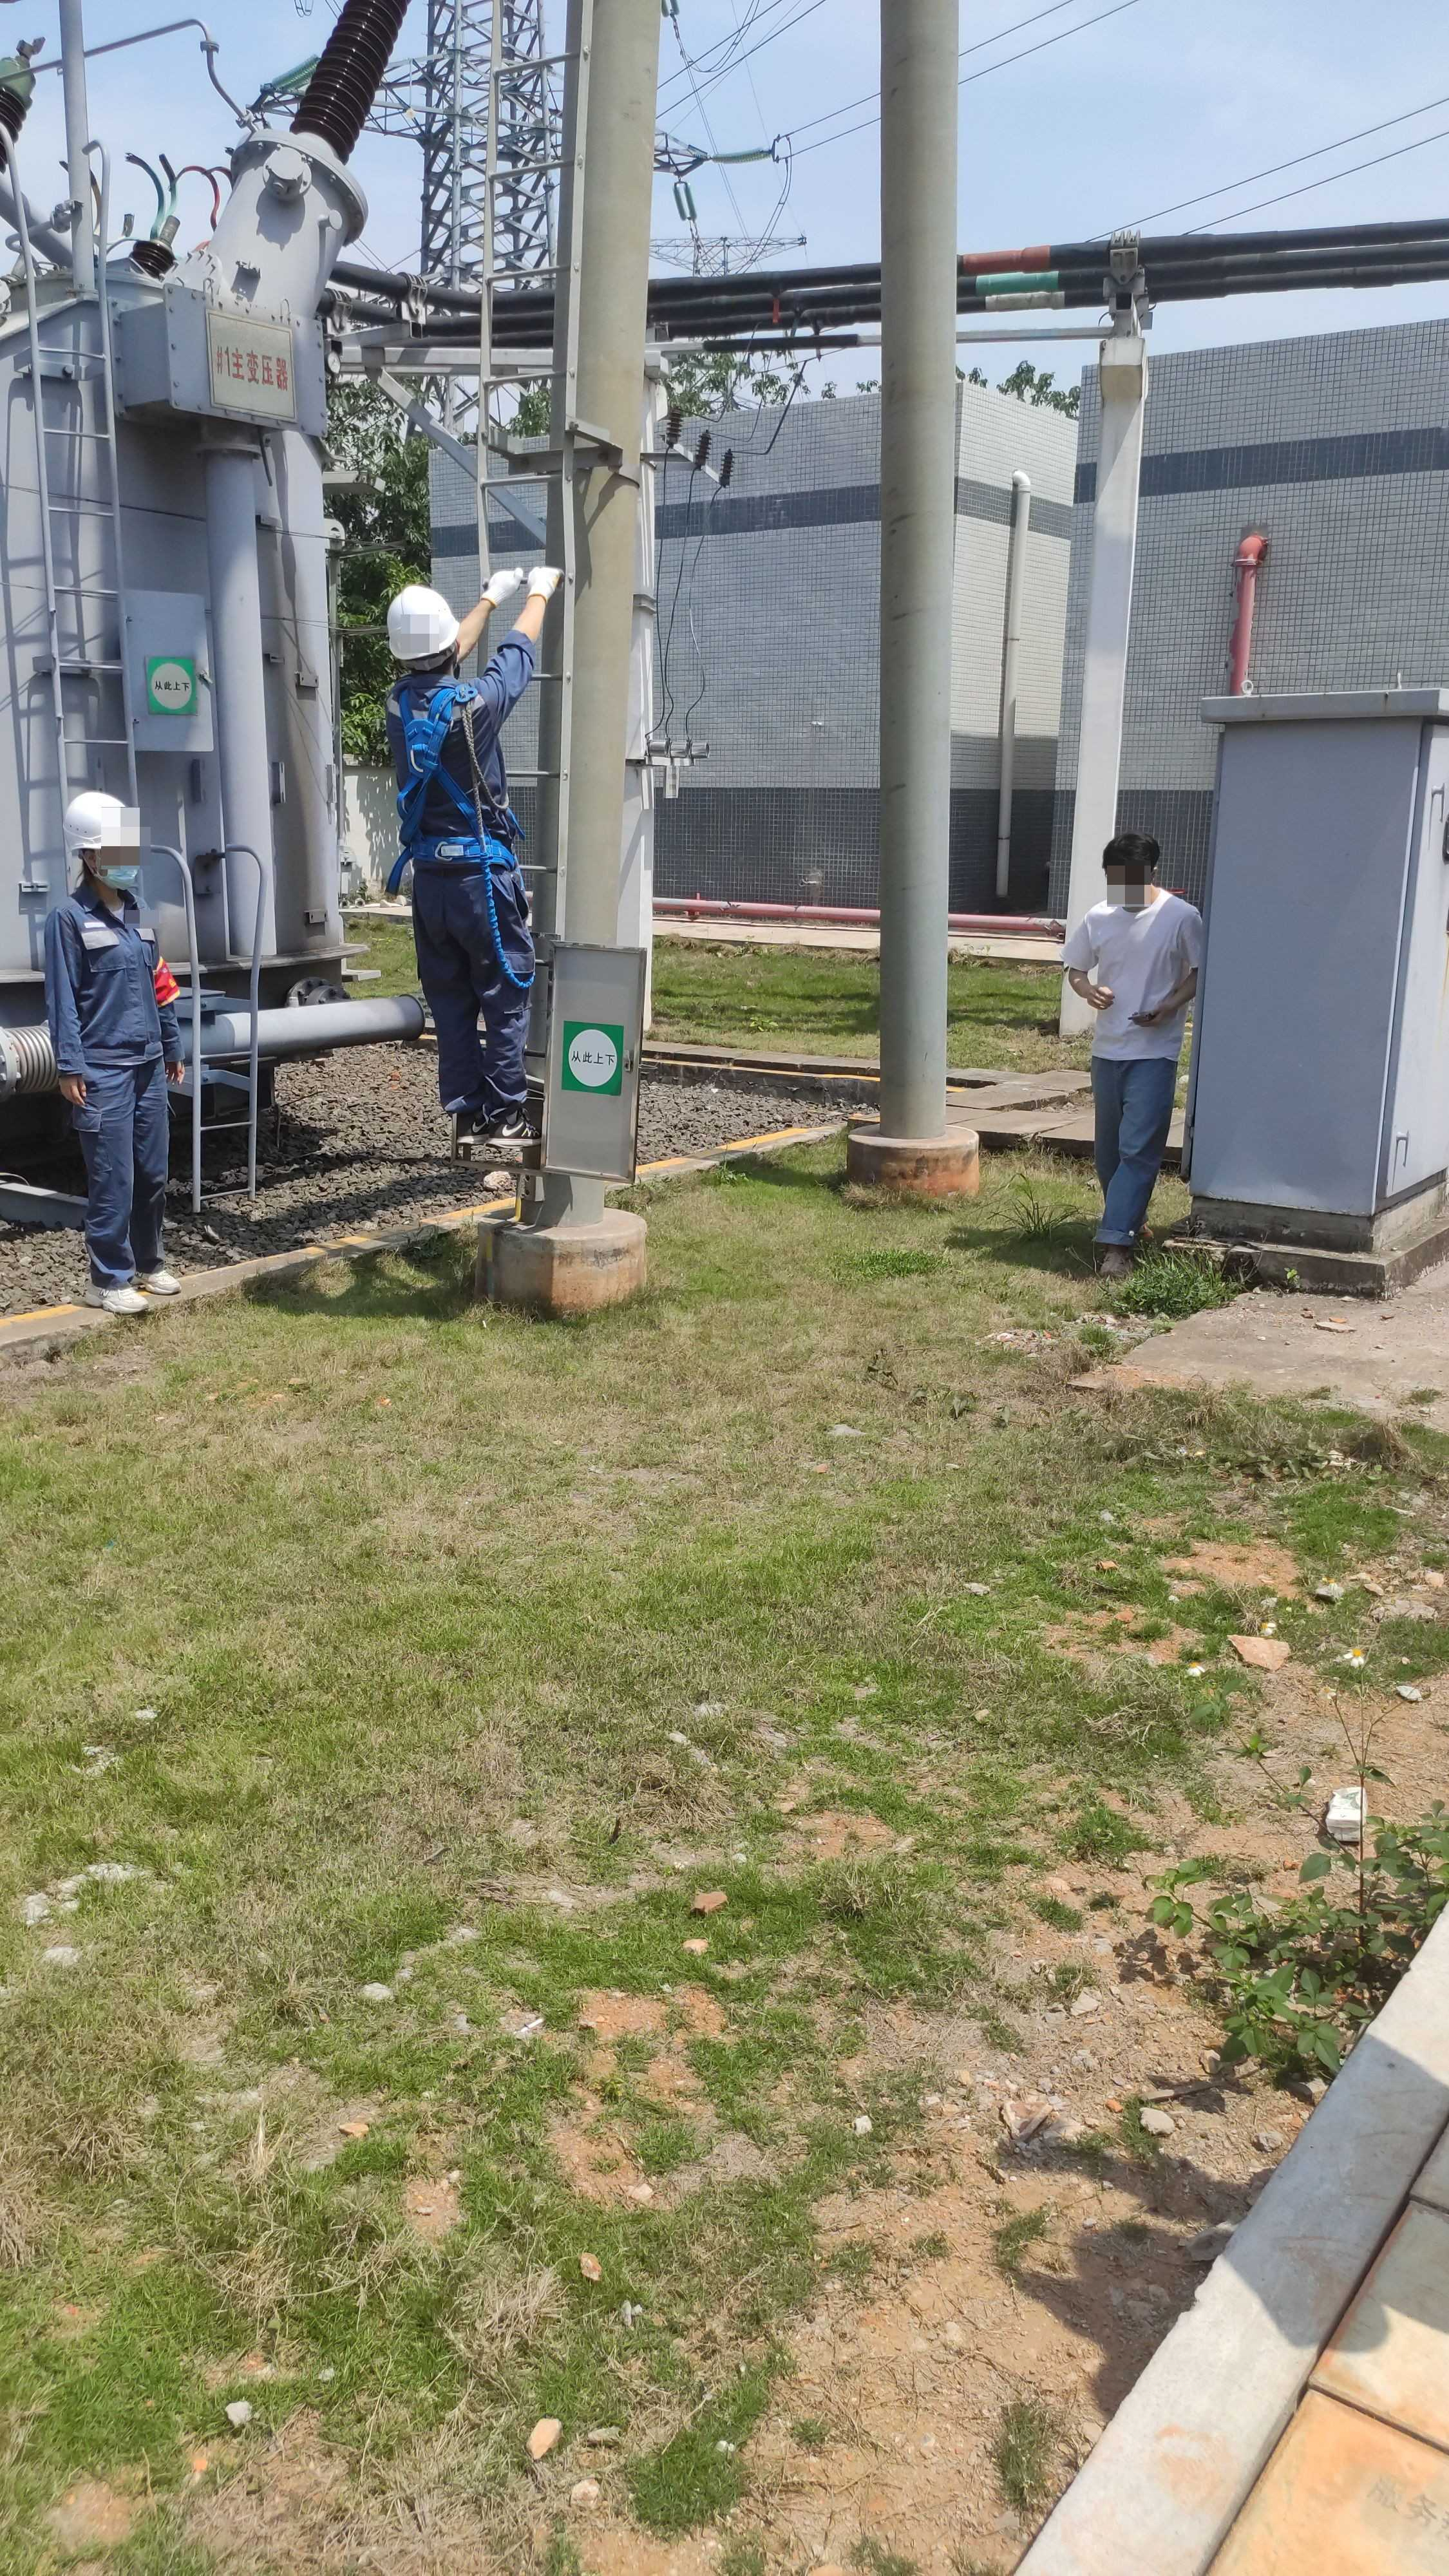downcloth: (1090, 1062, 1177, 1240)
downsuit: (400, 863, 543, 1120), (65, 1065, 182, 1281)
upcloth: (1070, 897, 1203, 1053)
upsuit: (380, 653, 533, 849), (37, 890, 184, 1067)
